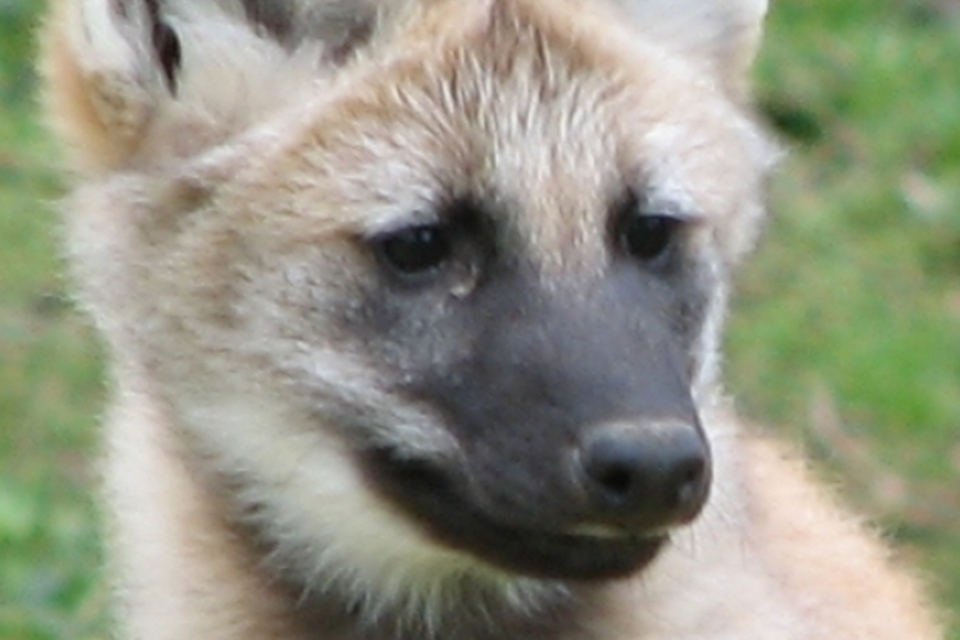LoboGuara: (45, 0, 764, 608)
